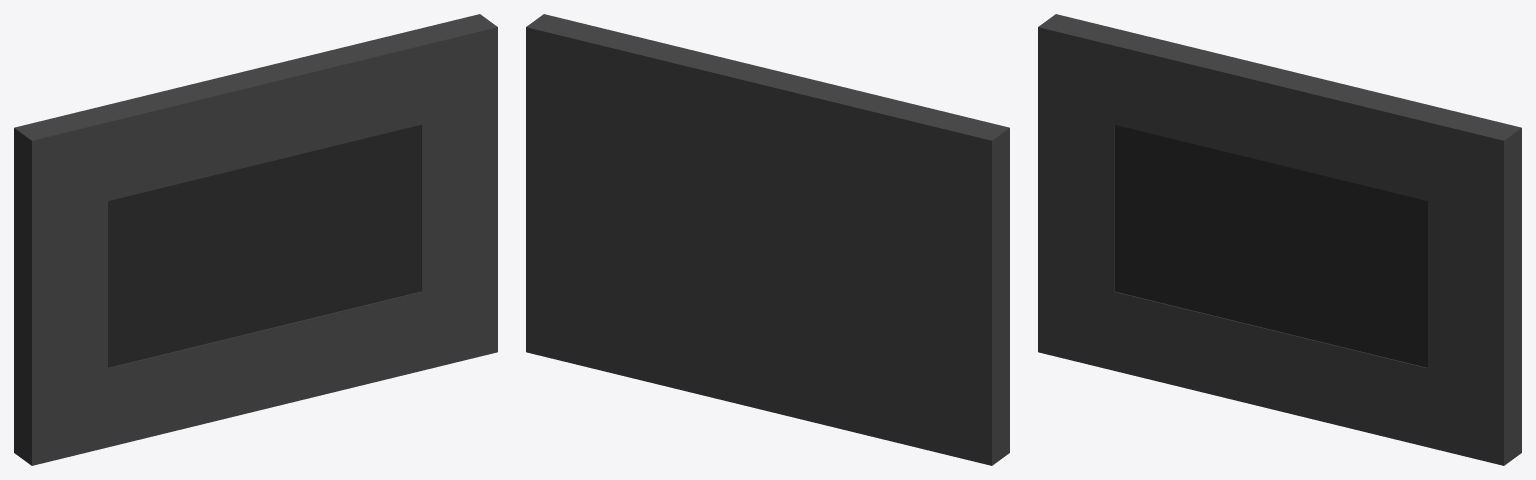
The model's file is Toilet1_C2_04.fbx.
3 renders of one model, left to right at view 1: azimuth 30°, elevation 25°; view 2: azimuth 150°, elevation 25°; view 3: azimuth 330°, elevation 25°, orthographic.
Visible parts, largest first — view 1: Toilet1_C2_04; view 2: Toilet1_C2_04; view 3: Toilet1_C2_04.
Boxes of the visible parts, box(x1,y1,x2,y2) form: Toilet1_C2_04: box(14, 14, 497, 465); Toilet1_C2_04: box(526, 14, 1009, 465); Toilet1_C2_04: box(1038, 14, 1521, 465).
Size of the model in its own units: 15 by 10 by 1.
